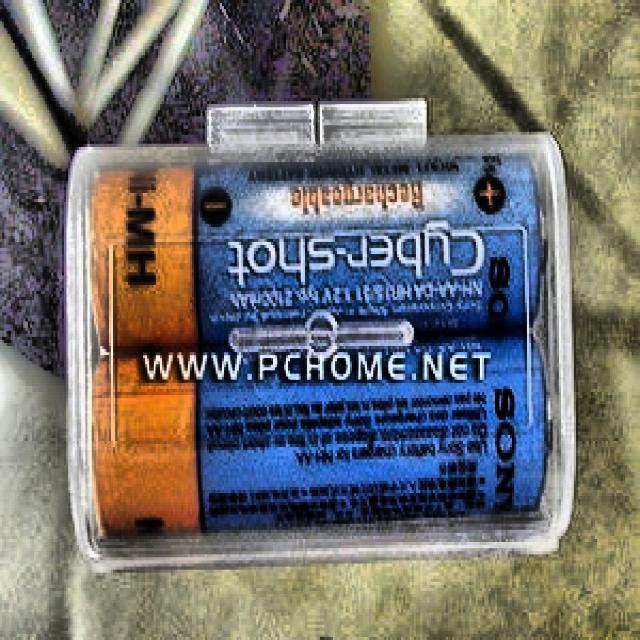Non-Valuable Waste - Batteries: (94, 334, 546, 532), (91, 156, 540, 349)
